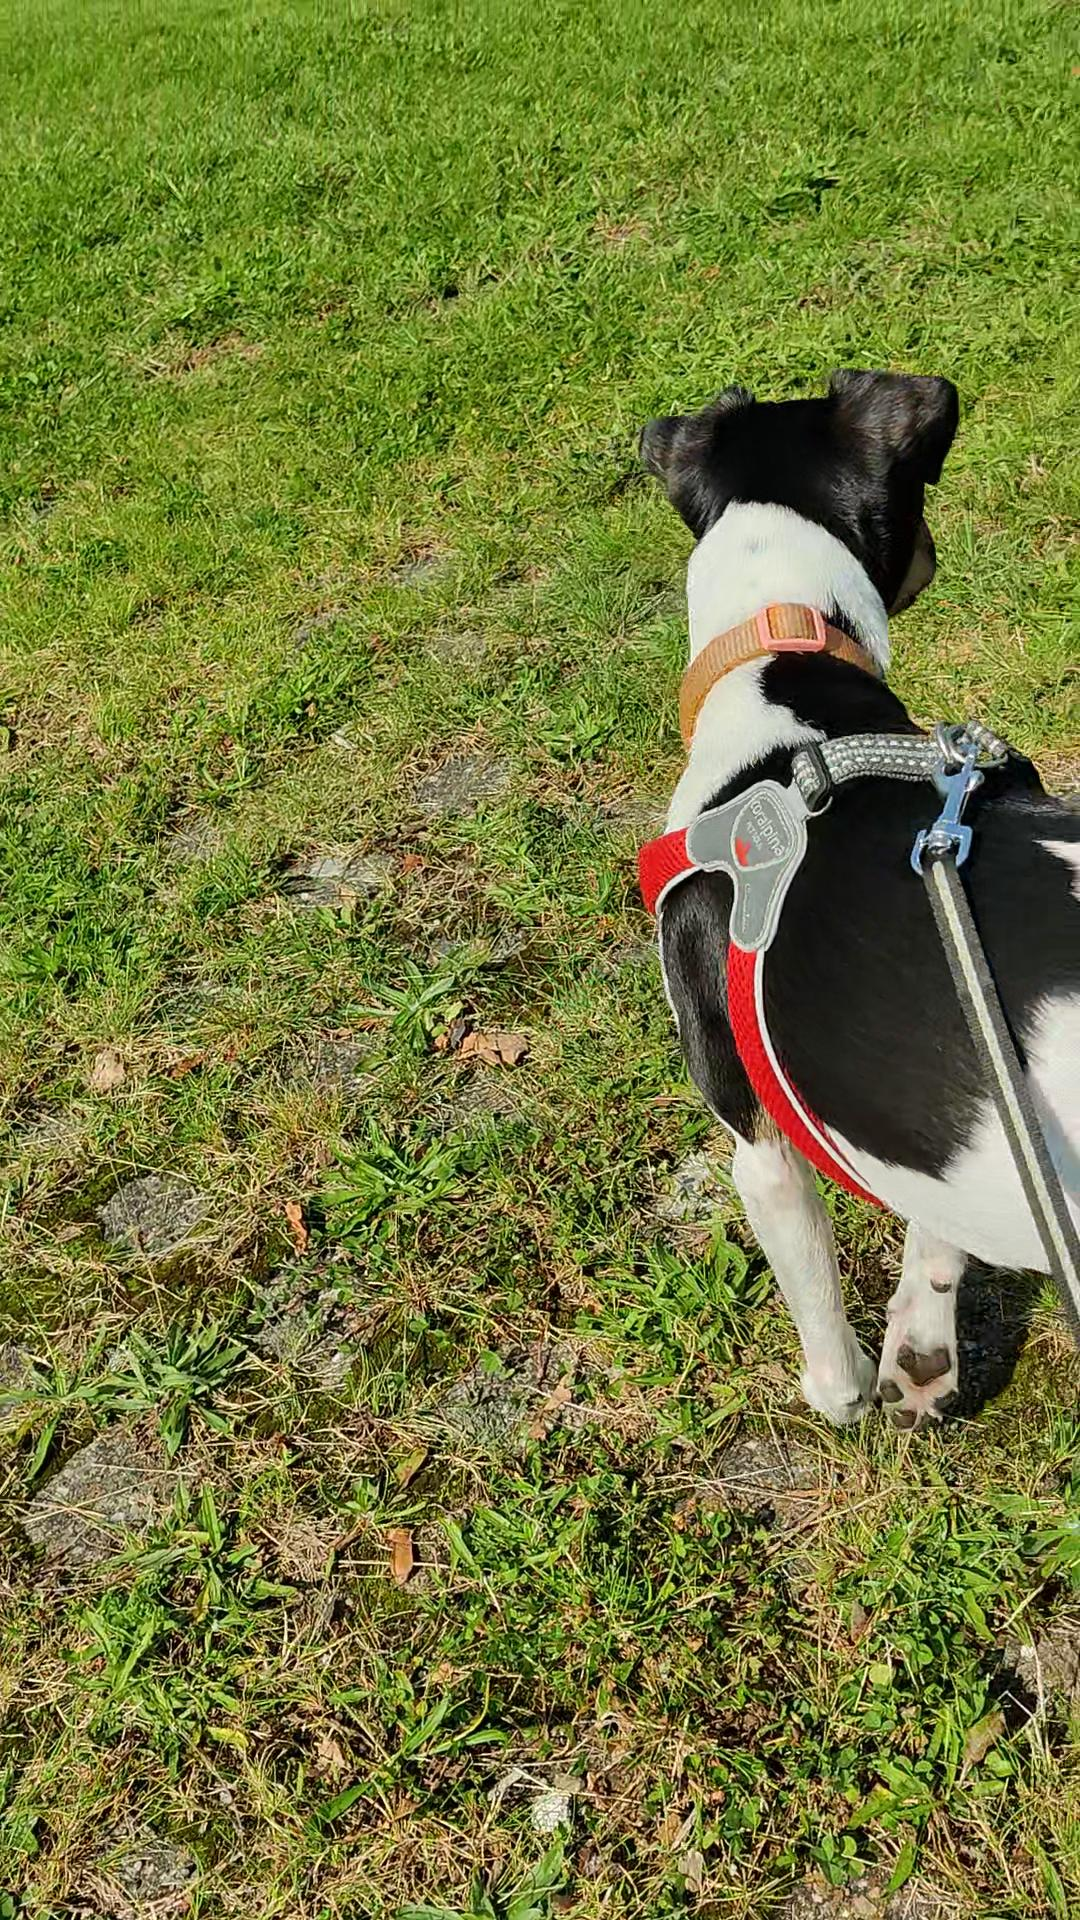Dog: (612, 348, 1079, 1432)
